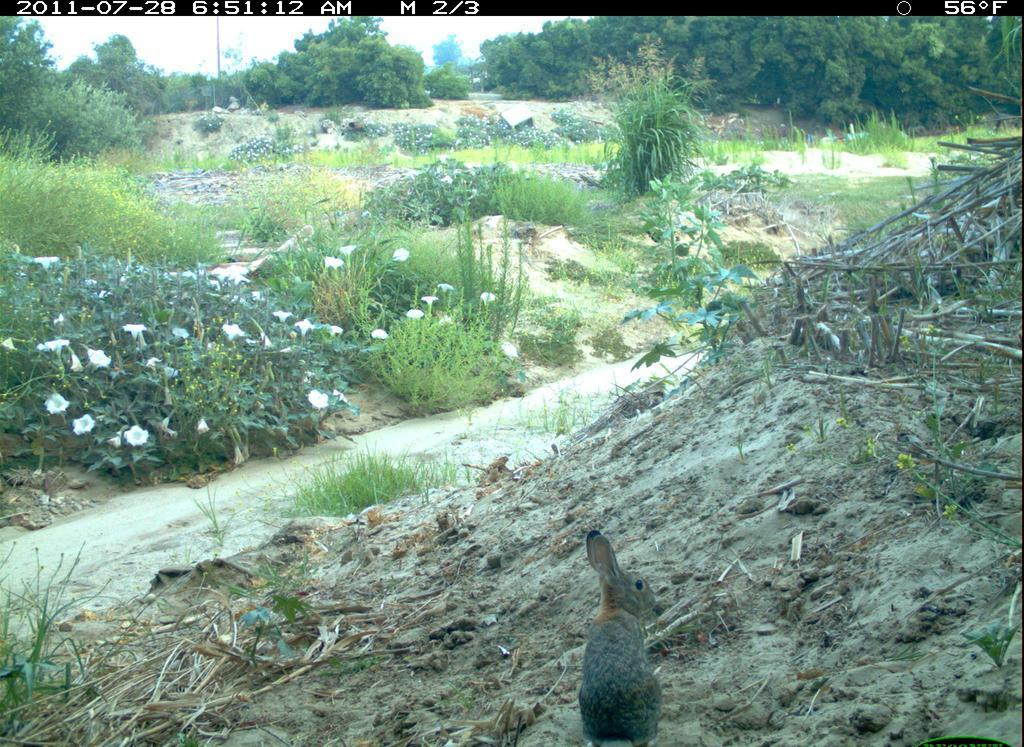rabbit: (575, 518, 676, 747)
